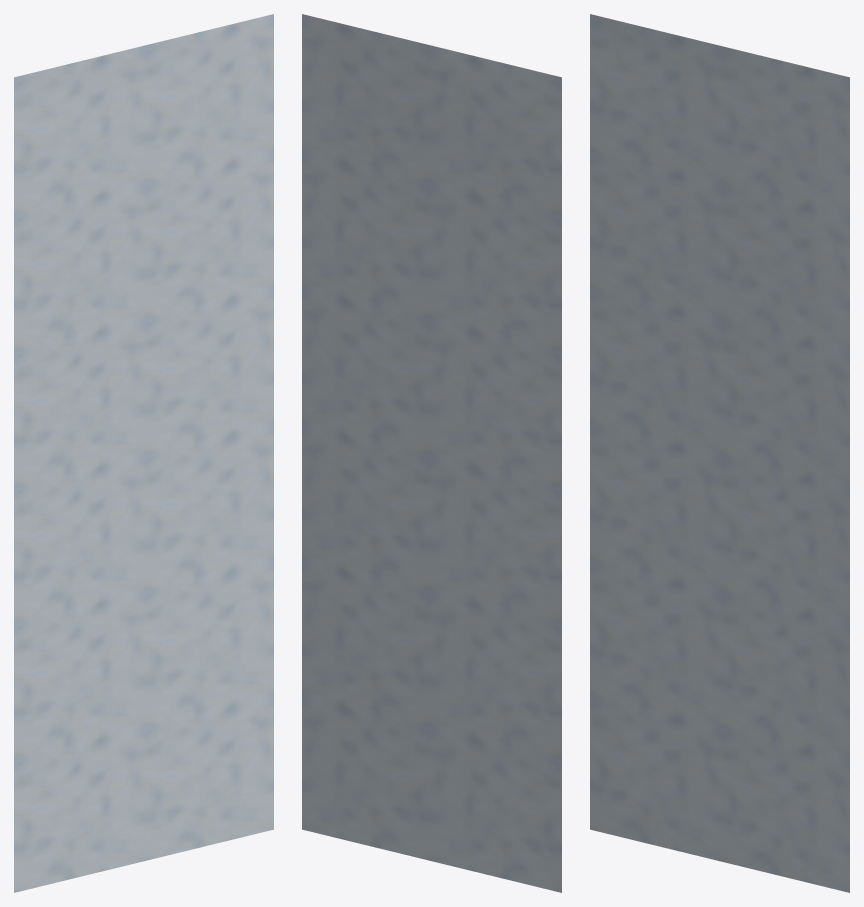
Rendered from snow.obj.
The picture shows the model from 3 angles, left to right: view 1: azimuth 30°, elevation 25°; view 2: azimuth 150°, elevation 25°; view 3: azimuth 330°, elevation 25°; orthographic projection.
Parts seen in each view (by area): view 1: snow; view 2: snow; view 3: snow.
Boxes of the visible parts, x1,y1,x2,y2 form: snow: [14, 14, 273, 892]; snow: [302, 14, 561, 892]; snow: [590, 14, 849, 892].
Size of the model in its own units: 4 by 12 by 0.0106.
Materials: 1 (1 with a texture image).
